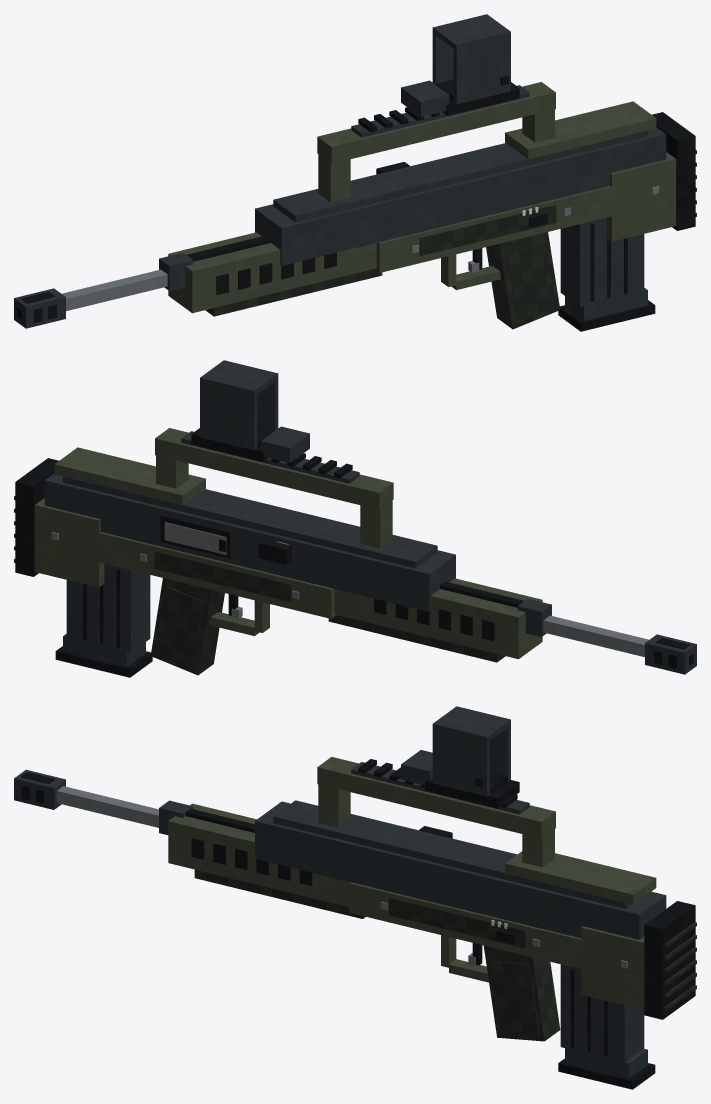
The model's file is Vetluga_B3.glb.
3 renders of one model, top to bottom at view 1: azimuth 30°, elevation 25°; view 2: azimuth 150°, elevation 25°; view 3: azimuth 330°, elevation 25°, orthographic.
Parts seen in each view (by area): view 1: Upper receiver spine, Receiver crown, Fore-end core, Magazine body, Carry handle bridge, Polymer lower chassis, Rear shoulder stock, Cheek rest, Holographic hood side -1, Grip stippling -1, Rubber buttpad, Pistol grip (+16 smaller); view 2: Upper receiver spine, Receiver crown, Fore-end core, Magazine body, Carry handle bridge, Polymer lower chassis, Rear shoulder stock, Cheek rest, Holographic hood side 1, Grip stippling 1, Receiver panel 1, Rubber buttpad (+19 smaller); view 3: Upper receiver spine, Receiver crown, Fore-end core, Carry handle bridge, Polymer lower chassis, Magazine body, Rear shoulder stock, Rubber buttpad, Cheek rest, Holographic hood side -1, Pistol grip, Grip stippling -1 (+16 smaller).
Part boxes in pixels (box(x1,y1,x2,y2)): Upper receiver spine: box(255, 127, 666, 265); Receiver crown: box(273, 130, 647, 222); Fore-end core: box(168, 232, 376, 313); Magazine body: box(560, 217, 644, 306); Carry handle bridge: box(317, 82, 555, 163); Polymer lower chassis: box(374, 186, 611, 272); Rear shoulder stock: box(606, 152, 676, 241); Cheek rest: box(505, 101, 656, 159); Holographic hood side -1: box(453, 37, 510, 104); Grip stippling -1: box(507, 240, 555, 320); Rubber buttpad: box(652, 112, 695, 230); Pistol grip: box(486, 232, 560, 329); Upper receiver spine: box(44, 473, 455, 611); Receiver crown: box(63, 476, 437, 568); Fore-end core: box(334, 578, 542, 659); Magazine body: box(66, 563, 150, 652); Carry handle bridge: box(155, 428, 393, 509); Polymer lower chassis: box(99, 532, 336, 618); Rear shoulder stock: box(34, 498, 104, 587); Cheek rest: box(54, 447, 205, 505); Holographic hood side 1: box(200, 383, 257, 450); Grip stippling 1: box(155, 586, 203, 666); Receiver panel 1: box(154, 551, 291, 601); Rubber buttpad: box(15, 458, 58, 576); Upper receiver spine: box(255, 801, 666, 939); Receiver crown: box(273, 800, 631, 909); Fore-end core: box(168, 803, 350, 906); Carry handle bridge: box(317, 757, 555, 838); Polymer lower chassis: box(349, 882, 581, 969); Magazine body: box(560, 964, 644, 1062); Rear shoulder stock: box(581, 926, 644, 1009); Rubber buttpad: box(644, 901, 695, 1019); Cheek rest: box(505, 851, 656, 904); Holographic hood side -1: box(432, 730, 489, 796); Pistol grip: box(483, 945, 560, 1041); Grip stippling -1: box(490, 961, 539, 1033).
Bounding box in the file's own units: 0.8266 × 0.379 × 0.0885.
Materials: 1 (1 with a texture image).
